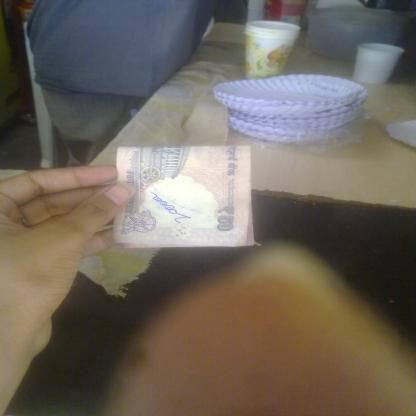Old50Back: (113, 145, 255, 248)
